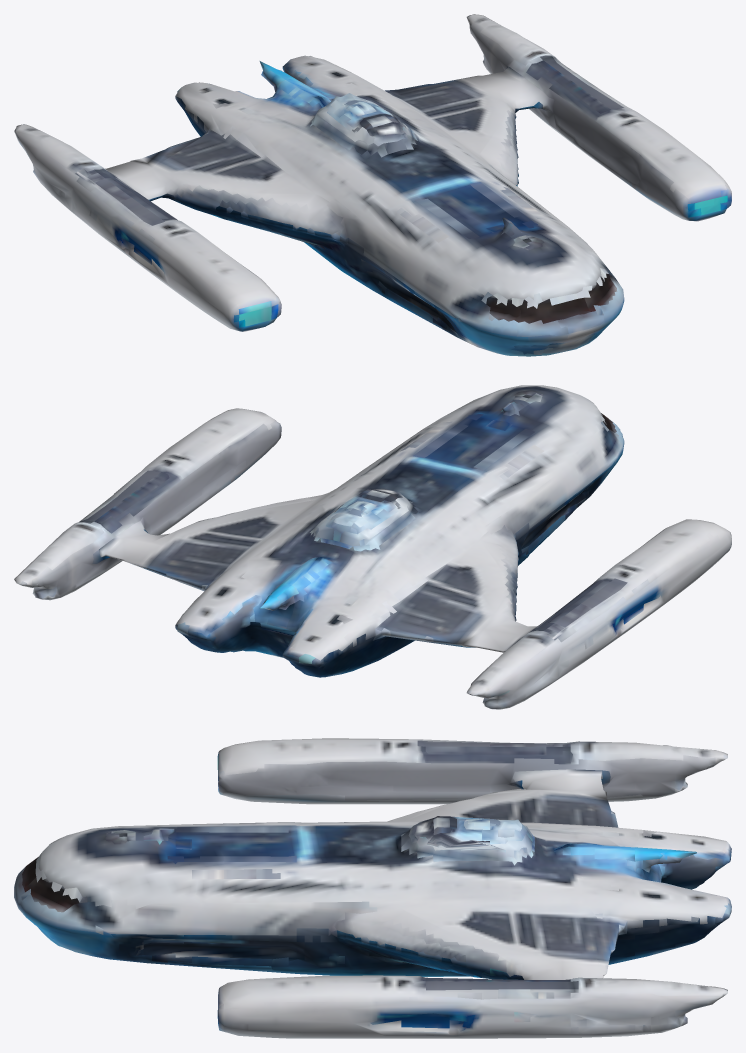
File: alliance_cruiser_lod1.glb
3 views of the same model, one above another, from view 1: azimuth 30°, elevation 25°; view 2: azimuth 150°, elevation 25°; view 3: azimuth 270°, elevation 25° (orthographic). The views are drawn at different scales.
Parts seen in each view (by area): view 1: model; view 2: model; view 3: model.
Part boxes in pixels (x1,y1,x2,y2): model: (14,14,731,356); model: (14,385,731,709); model: (14,738,731,1038).
Size of the model in its own units: 1.64 by 0.3856 by 1.88.
Materials: 1 (1 with a texture image).
